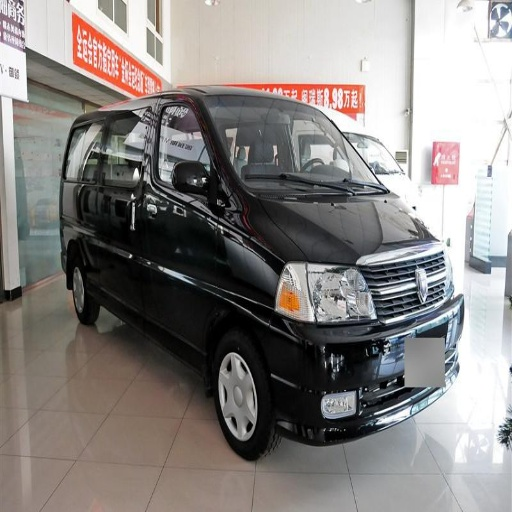front_bumper: (262, 295, 462, 444)
front_right_door: (128, 94, 229, 343)
front_right_light: (278, 262, 371, 325)
